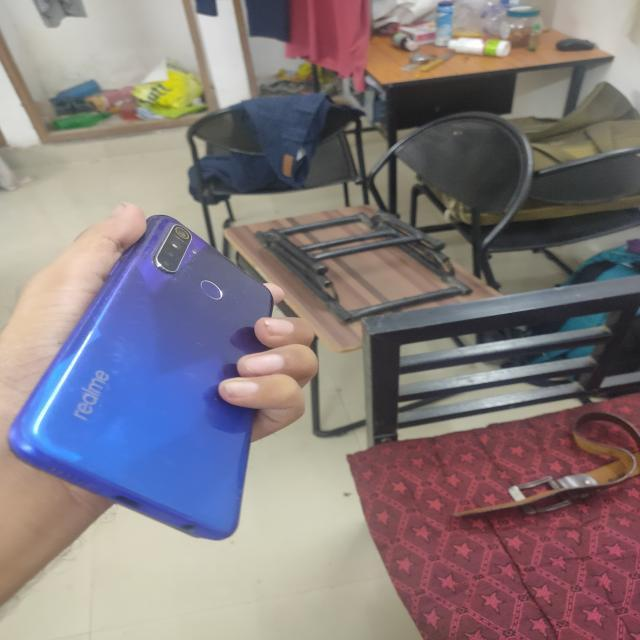Phone: (0, 210, 277, 544)
